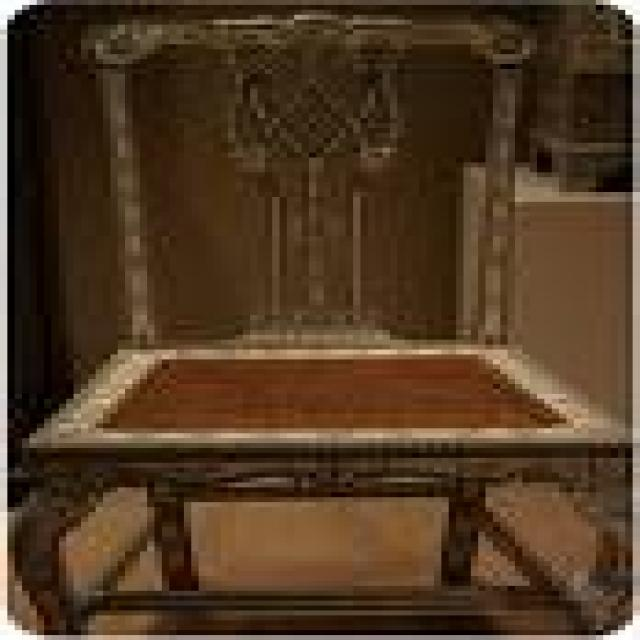Chair: (0, 10, 640, 632)
